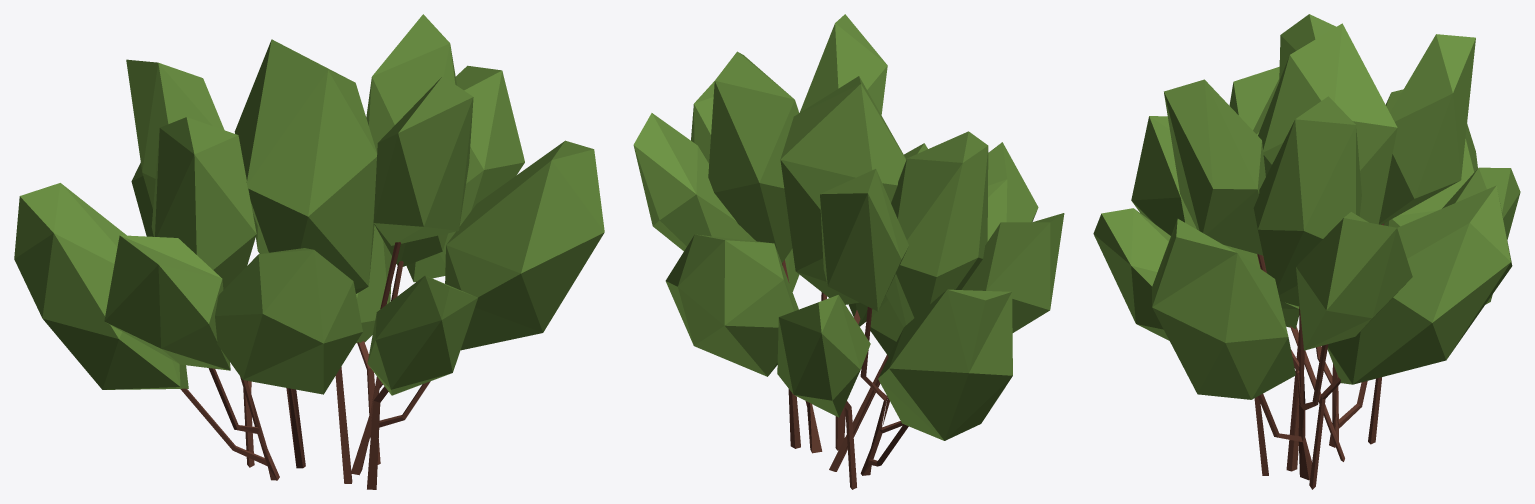
Rendered from mountain_ash_3.fbx.
3 renders of one model, left to right at view 1: azimuth 30°, elevation 25°; view 2: azimuth 150°, elevation 25°; view 3: azimuth 270°, elevation 25°, orthographic. The views are drawn at different scales.
Parts seen in each view (by area): view 1: mountain_ash_3; view 2: mountain_ash_3; view 3: mountain_ash_3.
Part boxes in pixels (x1,y1,x2,y2): mountain_ash_3: [14, 14, 604, 489]; mountain_ash_3: [633, 14, 1064, 489]; mountain_ash_3: [1093, 14, 1520, 489].
Size of the model in its own units: 175 by 162 by 148.
